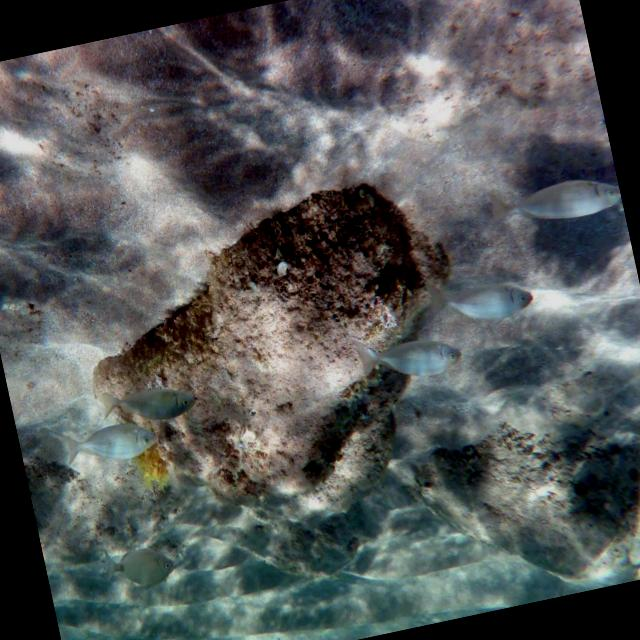Sokar Baligi: (479, 164, 627, 253), (341, 314, 482, 403), (86, 362, 211, 442)
